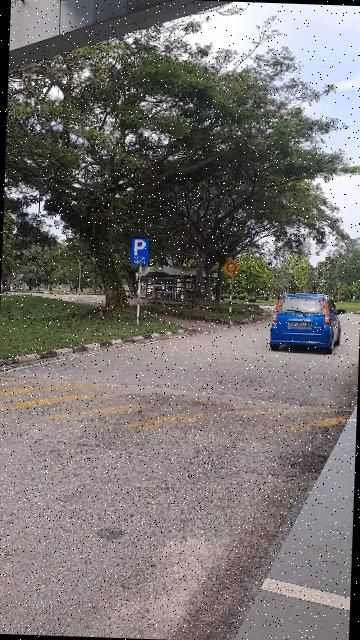License_Plate: (291, 323, 312, 330)
car: (270, 291, 348, 357)
